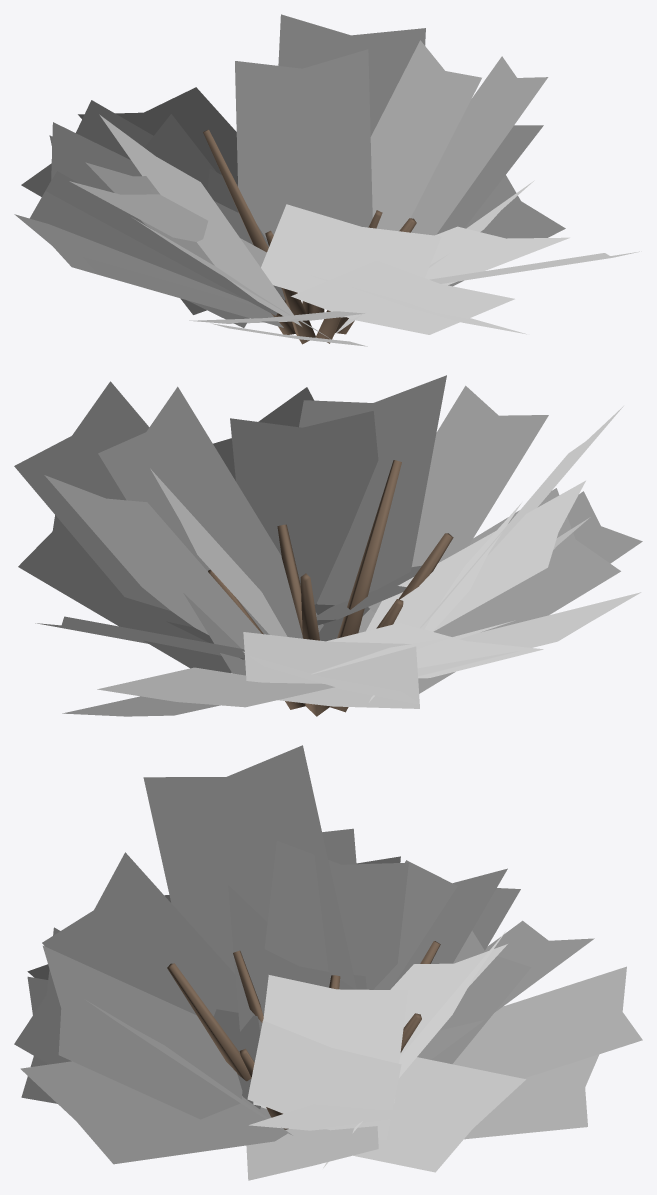
The model's file is salal_bush.glb.
3 renders of one model, top to bottom at view 1: azimuth 30°, elevation 25°; view 2: azimuth 150°, elevation 25°; view 3: azimuth 270°, elevation 25°, orthographic. The views are drawn at different scales.
Visible parts, largest first — view 1: salal_bush; view 2: salal_bush; view 3: salal_bush.
Boxes of the visible parts, bbox=[...] form: salal_bush: bbox=[14, 14, 641, 346]; salal_bush: bbox=[14, 375, 642, 716]; salal_bush: bbox=[14, 745, 642, 1180].
Size of the model in its own units: 1.8 by 0.9444 by 1.89.
